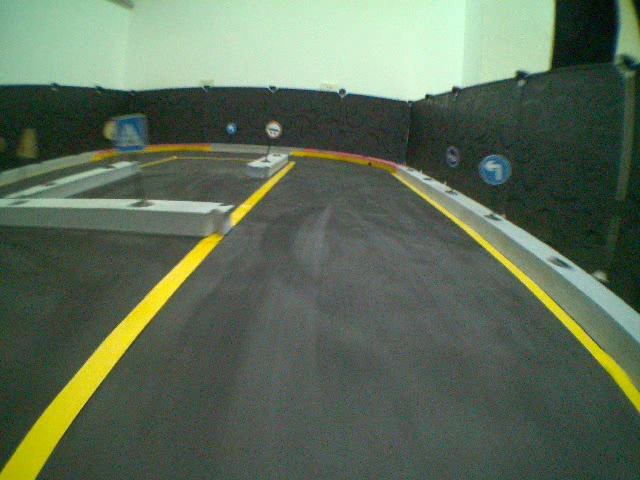Check: (266, 119, 282, 140)
crossing: (114, 115, 148, 156)
horn: (444, 144, 460, 169)
turn: (479, 153, 512, 186), (225, 122, 237, 135)
